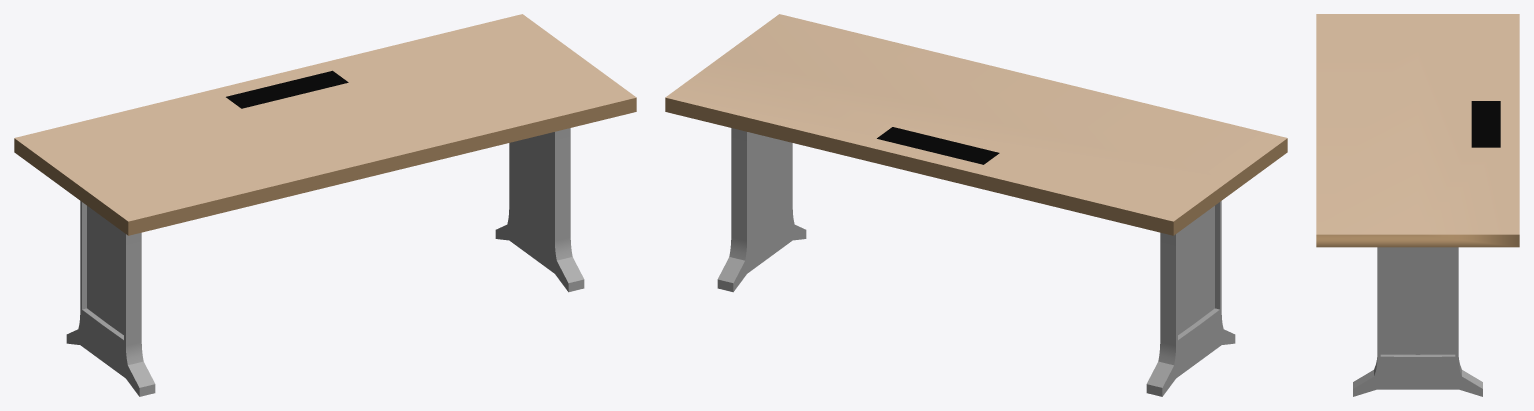
File: desk_001.fbx
The picture shows the model from 3 angles, left to right: view 1: azimuth 30°, elevation 25°; view 2: azimuth 150°, elevation 25°; view 3: azimuth 270°, elevation 25°; orthographic projection. The views are drawn at different scales.
Parts seen in each view (by area): view 1: desk_001; view 2: desk_001; view 3: desk_001.
Boxes of the visible parts, x1,y1,x2,y2 form: desk_001: [14, 14, 636, 396]; desk_001: [665, 14, 1287, 396]; desk_001: [1316, 14, 1519, 396].
Size of the model in its own units: 224 by 83.27 by 86.98.
